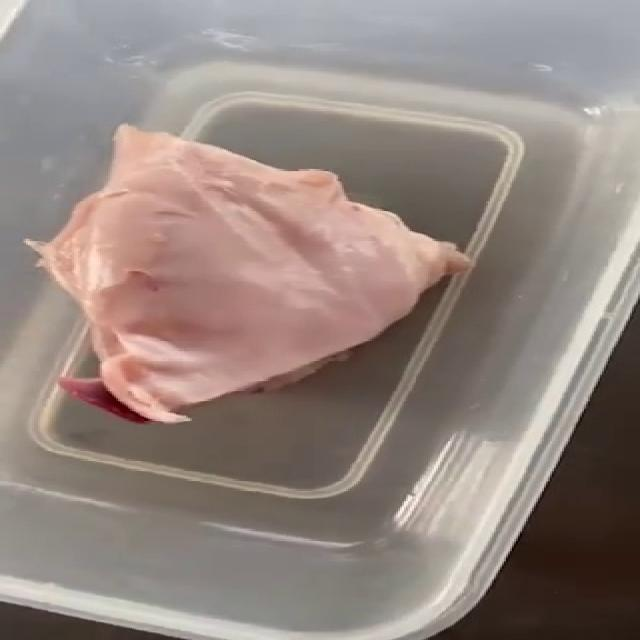chicken: (31, 123, 479, 420)
